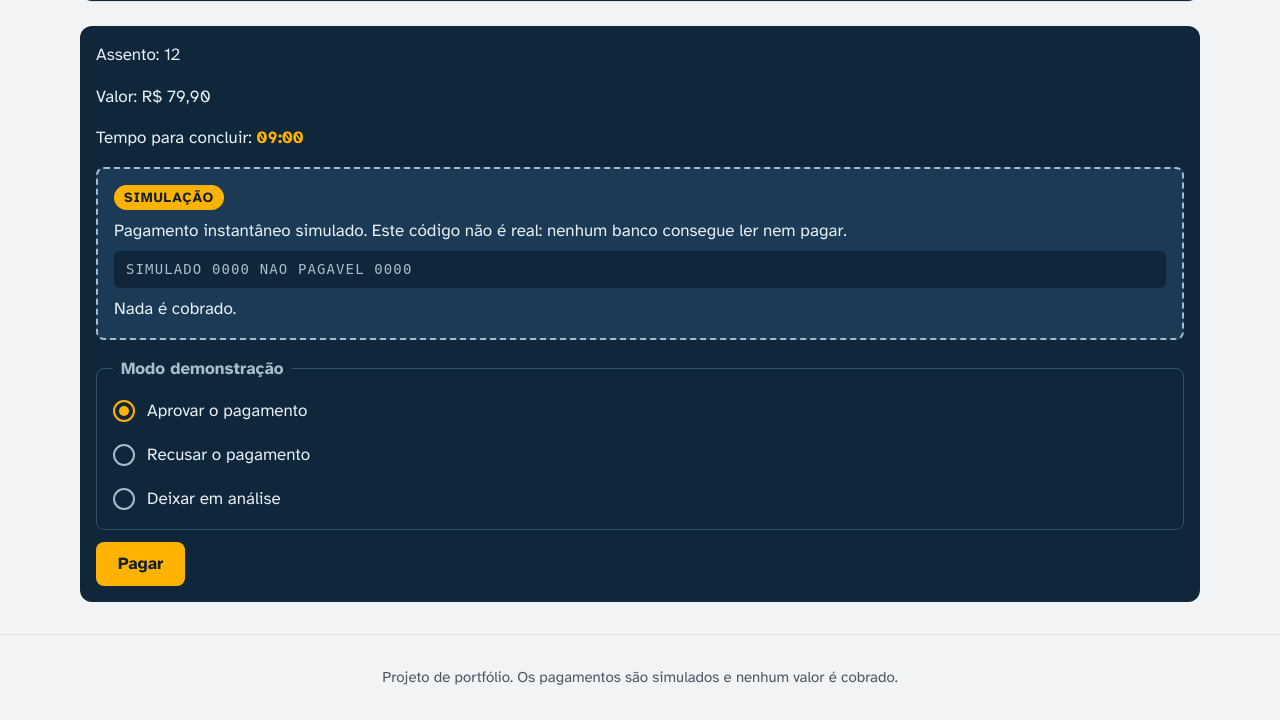
PaymentPage: resultado do pagamento › hold_expired (410): mostra a mensagem da API e leva a escolher outro assento
(page scrolled)
Click the button "Pagar".
click(141, 564)  # box top-left (96, 542), bottom-right (186, 586)
(page scrolled)
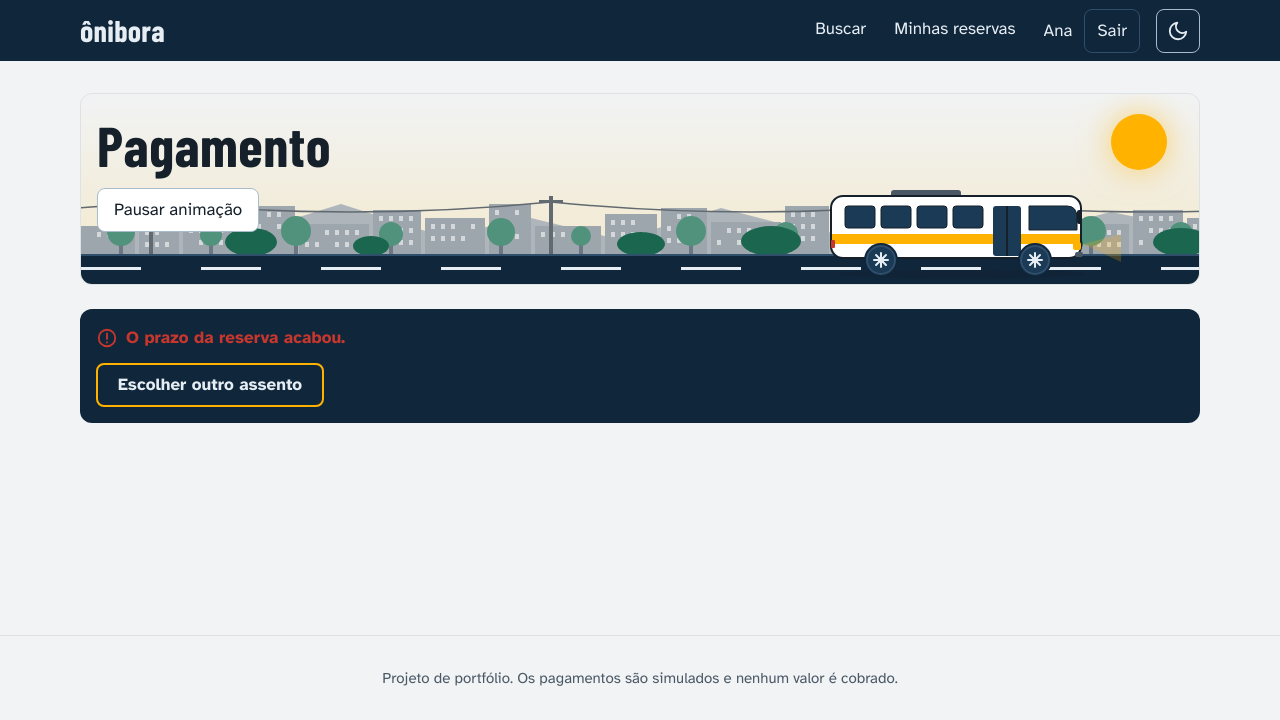
Result: the message reads "O prazo da reserva acabou." at top-left (126, 327), bottom-right (345, 348)
Result: the text "Pagar" is gone
